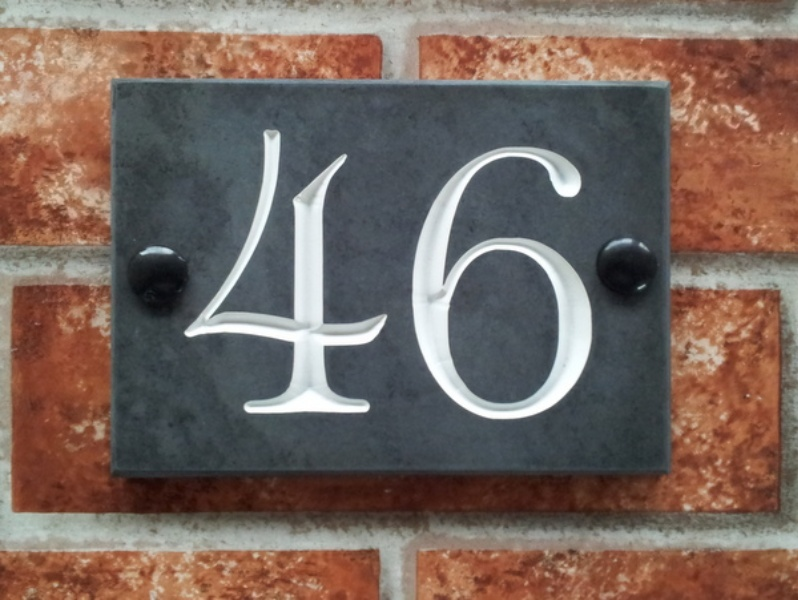text: (193, 126, 208, 424), (209, 126, 224, 424), (225, 126, 240, 424), (241, 126, 256, 424), (257, 126, 272, 424), (273, 126, 288, 424), (289, 126, 304, 424), (305, 126, 320, 424), (321, 126, 336, 424), (337, 126, 352, 424), (353, 126, 368, 424), (369, 126, 384, 424), (385, 126, 400, 424), (401, 126, 416, 424), (417, 126, 432, 424), (433, 126, 448, 424), (449, 126, 464, 424), (465, 126, 480, 424), (481, 126, 496, 424), (497, 126, 512, 424), (513, 126, 528, 424), (529, 126, 544, 424), (545, 126, 560, 424), (561, 126, 576, 424), (577, 126, 592, 424), (183, 126, 192, 424), (593, 126, 599, 424)
